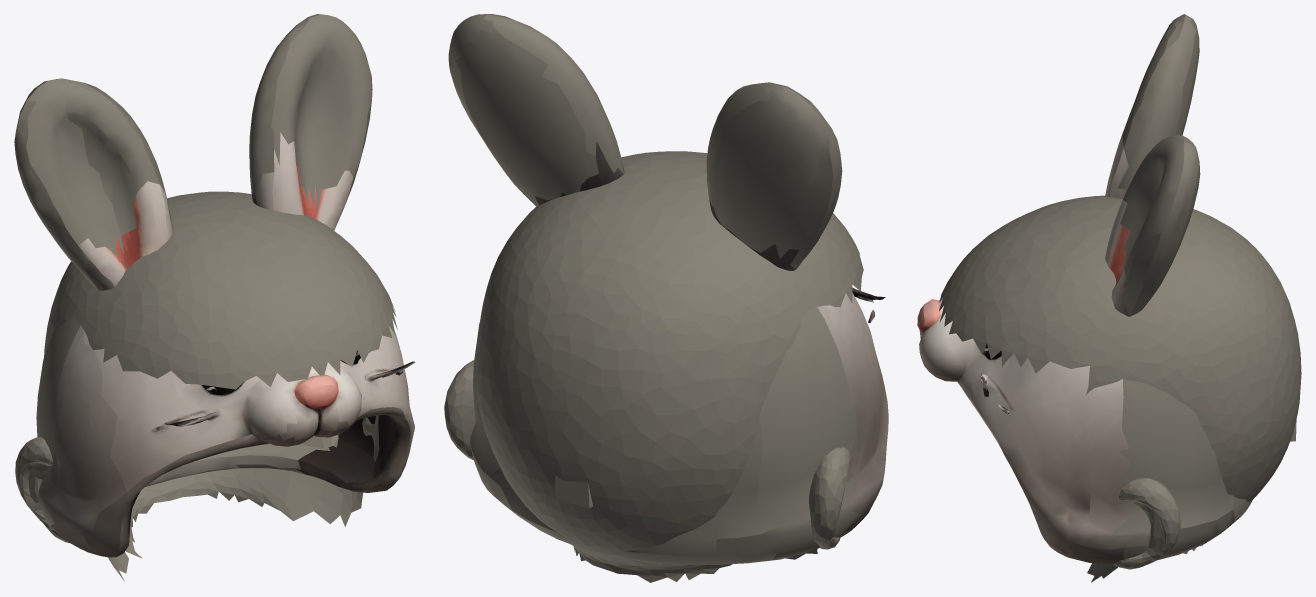
The model's file is rabbit.glb.
3 renders of one model, left to right at view 1: azimuth 30°, elevation 25°; view 2: azimuth 150°, elevation 25°; view 3: azimuth 270°, elevation 25°, orthographic. The views are drawn at different scales.
Parts seen in each view (by area): view 1: geometry_0, HoodAnatomicalLining; view 2: HoodAnatomicalLining, geometry_0; view 3: HoodAnatomicalLining, geometry_0.
Boxes of the visible parts, x1,y1,x2,y2 form: geometry_0: (14, 14, 415, 557); HoodAnatomicalLining: (15, 191, 397, 581); HoodAnatomicalLining: (444, 151, 863, 582); geometry_0: (448, 14, 888, 564); HoodAnatomicalLining: (939, 195, 1301, 582); geometry_0: (917, 14, 1296, 564).
Bounding box in the file's own units: 0.4751 × 0.5949 × 0.4585.
Materials: 2 (1 with a texture image).
